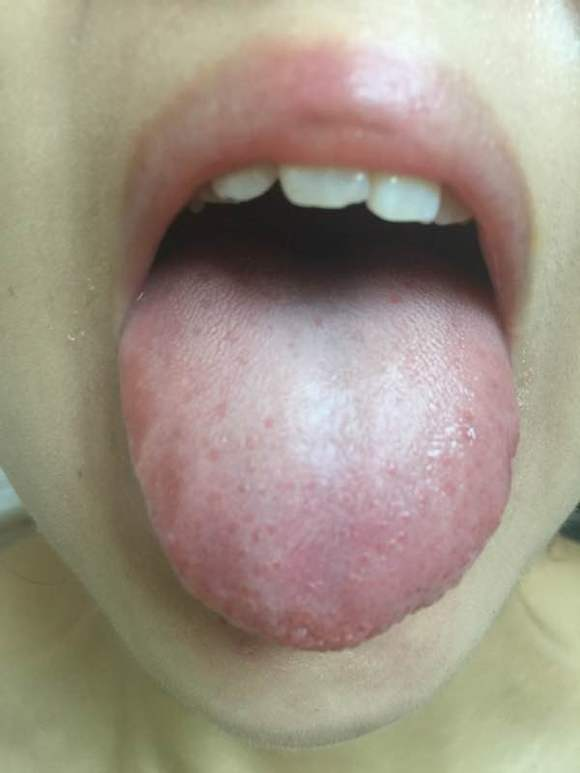baitaishe: (119, 216, 520, 653)
chihenshe: (129, 410, 190, 542)
pangdashe: (119, 216, 520, 653)
